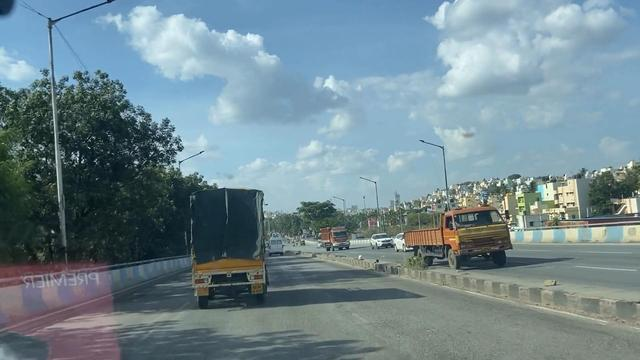HMV: (179, 194, 274, 305)
